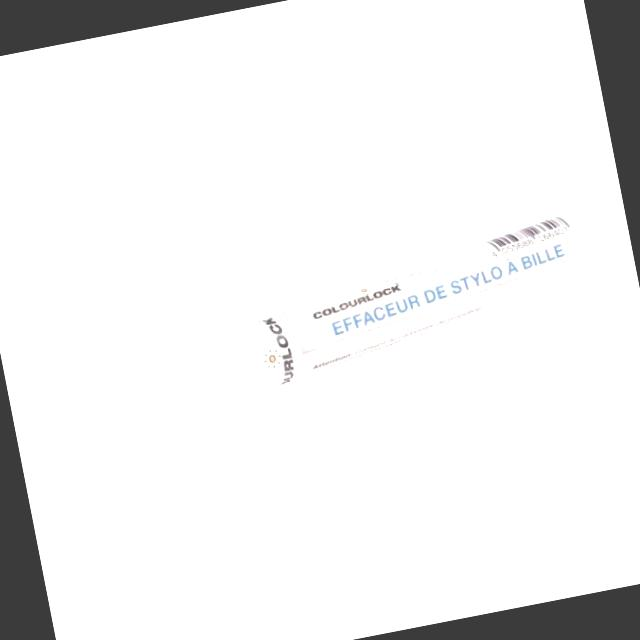Pen - Non Recyclable: (22, 204, 628, 465)
